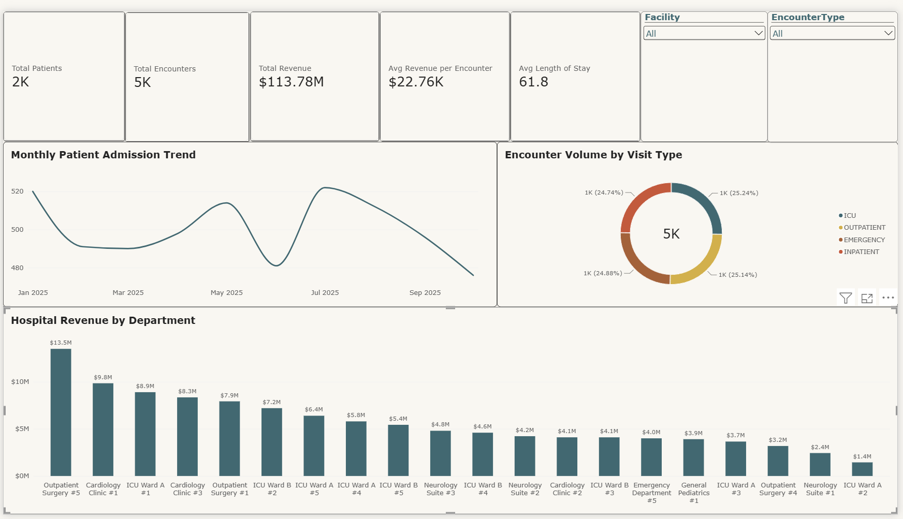

What the dashboard file says about the page in this screenshot:
{"tool":"powerbi","page":{"name":"Executive Healthcare Overview","canvas":[1920,1080],"ordinal":0},"visuals":[{"type":"cardVisual","fields":{"Data":["gold vw_Fact_PatientEncounters.Total Encounters"]},"box":[262.5,1.7,267.7,279.8],"z":0},{"type":"cardVisual","fields":{"Data":["gold vw_Fact_PatientEncounters.Total Revenue"]},"box":[530.1,0,278.1,279.8],"z":1000},{"type":"cardVisual","fields":{"Data":["gold vw_Fact_PatientEncounters.Avg Revenue per Encounter"]},"box":[808.2,0,280,280],"z":2000},{"type":"cardVisual","fields":{"Data":["gold vw_Dim_Patient.Total Patients"]},"box":[0,0,262.5,279.8],"z":3000},{"type":"cardVisual","fields":{"Data":["gold vw_Fact_PatientEncounters.Avg Length of Stay"]},"box":[1088,0,280,280],"z":4000},{"type":"clusteredColumnChart","title":"Hospital Revenue by Department","fields":{"Category":["gold vw_Dim_Department.DepartmentName"],"Y":["gold vw_Fact_PatientEncounters.Total Revenue"]},"box":[0,634.4,1920.6,445],"z":5000},{"type":"donutChart","title":"Encounter Volume by Visit Type","fields":{"Category":["gold vw_Fact_PatientEncounters.EncounterType"],"Y":["gold vw_Fact_PatientEncounters.Total Encounters"]},"box":[1060.2,279.8,860.4,354.6],"z":6000},{"type":"lineChart","title":"Monthly Patient Admission Trend","fields":{"Category":["gold vw_Fact_PatientEncounters.AdmitTimestamp.Variation.Date Hierarchy.Year","gold vw_Fact_PatientEncounters.AdmitTimestamp.Variation.Date Hierarchy.Quarter","gold vw_Fact_PatientEncounters.AdmitTimestamp.Variation.Date Hierarchy.Month","gold vw_Fact_PatientEncounters.AdmitTimestamp.Variation.Date Hierarchy.Day"],"Y":["gold vw_Fact_PatientEncounters.Total Encounters"]},"box":[0,279.8,1060.2,354.6],"z":7000},{"type":"slicer","fields":{"Values":["gold vw_Dim_Department.FacilityName"]},"box":[1367.9,0,272.9,279.8],"z":8000},{"type":"slicer","fields":{"Values":["gold vw_Fact_PatientEncounters.EncounterType"]},"box":[1640.8,0,279.8,281.6],"z":9000}]}

Visuals, with their boxes in screenshot pixels (x1, y1, x2, y2), scaled from the page's 1920x1080 canvas onto the 903x519 screenshot:
cardVisual - gold vw_Fact_PatientEncounters.Total Encounters: region(123, 1, 249, 135)
cardVisual - gold vw_Fact_PatientEncounters.Total Revenue: region(249, 0, 380, 134)
cardVisual - gold vw_Fact_PatientEncounters.Avg Revenue per Encounter: region(380, 0, 512, 135)
cardVisual - gold vw_Dim_Patient.Total Patients: region(0, 0, 123, 134)
cardVisual - gold vw_Fact_PatientEncounters.Avg Length of Stay: region(512, 0, 643, 135)
"Hospital Revenue by Department" clusteredColumnChart: region(0, 305, 902, 518)
"Encounter Volume by Visit Type" donutChart: region(499, 134, 902, 305)
"Monthly Patient Admission Trend" lineChart: region(0, 134, 499, 305)
slicer - gold vw_Dim_Department.FacilityName: region(643, 0, 772, 134)
slicer - gold vw_Fact_PatientEncounters.EncounterType: region(772, 0, 902, 135)
